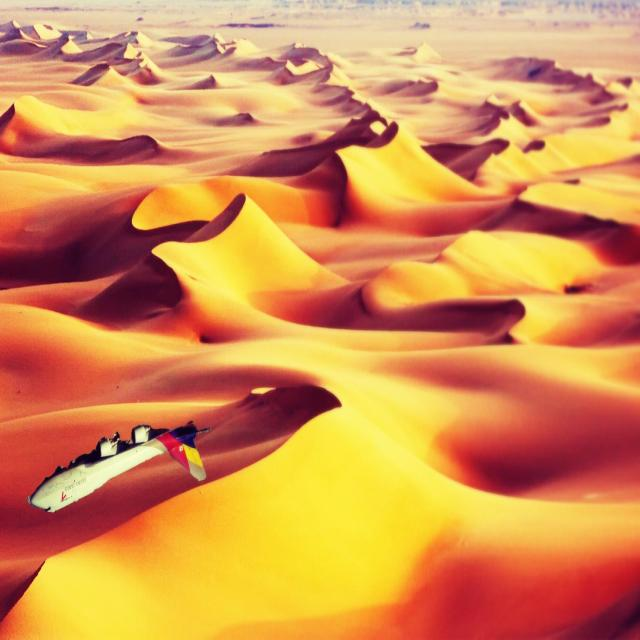airplane: (26, 418, 211, 514)
